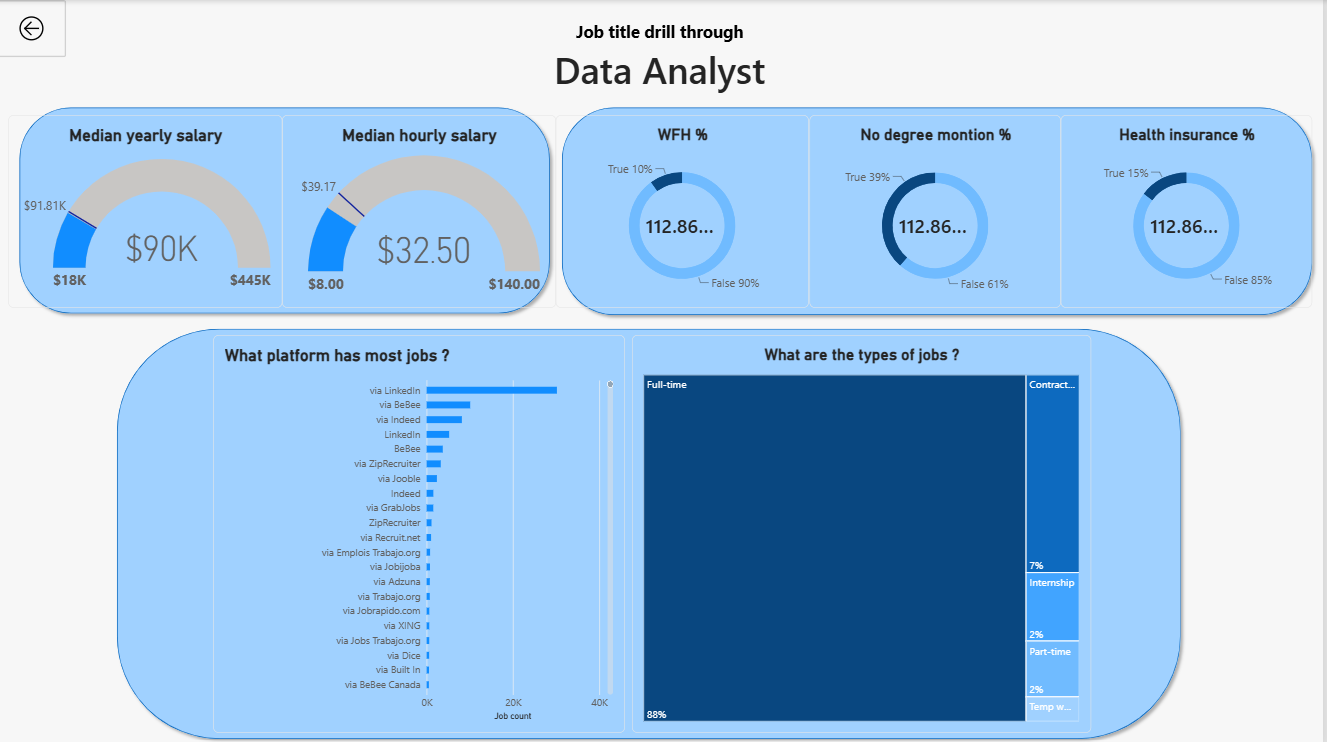

What the dashboard file says about the page in this screenshot:
{"tool":"powerbi","page":{"name":"Job title drill through","canvas":[1920,1080],"ordinal":1},"visuals":[{"type":"group","id":"g1","title":"Background","box":[24.1,147.3,1889.5,931.9],"z":0},{"type":"shape","box":[24.1,147.3,785.7,316.1],"z":0,"group":"g1"},{"type":"cardVisual","fields":{"Data":["Min(job_postings_flat.job_title_short)1"]},"box":[600.6,0,718,167.1],"z":1000},{"type":"shape","box":[164.8,467.4,1557.9,611.9],"z":1000,"group":"g1"},{"type":"actionButton","box":[0,0,100.2,82.9],"z":2000},{"type":"shape","box":[809.6,147.3,1104.1,318.3],"z":2000,"group":"g1"},{"type":"gauge","title":"Median yearly salary","fields":{"MaxValue":["Max(job_postings_flat.salary_year_avg)2"],"MinValue":["Min(job_postings_flat.salary_year_avg)1"],"TargetValue":["Avg(job_postings_flat.salary_year_avg)"],"Y":["Median(job_postings_flat.salary_year_avg)"]},"box":[15.4,165.7,397,279.4],"z":3000},{"type":"gauge","title":"Median hourly salary","fields":{"MaxValue":["Max(job_postings_flat.salary_hour_avg)2"],"MinValue":["Min(job_postings_flat.salary_hour_avg)1"],"TargetValue":["Avg(job_postings_flat.salary_hour_avg)3"],"Y":["Median(job_postings_flat.salary_hour_avg)"]},"box":[412.4,165.7,397,279.4],"z":4000},{"type":"donutChart","title":"WFH %","fields":{"Category":["job_postings_flat.job_work_from_home"],"Y":["CountNonNull(job_postings_flat.job_work_from_home)"]},"box":[809.3,165.7,366.1,279.4],"z":5000},{"type":"donutChart","title":"No degree montion %","fields":{"Category":["job_postings_flat.job_no_degree_mention"],"Y":["CountNonNull(job_postings_flat.job_work_from_home)"]},"box":[1175.4,165.7,364.2,279.4],"z":6000},{"type":"donutChart","title":"Health insurance %","fields":{"Category":["job_postings_flat.job_health_insurance"],"Y":["CountNonNull(job_postings_flat.job_work_from_home)"]},"box":[1539.6,165.7,364.2,279.4],"z":7000},{"type":"treemap","title":"What are the types of jobs ?","fields":{"Group":["job_postings_flat.job_schedule_type"],"Values":["CountNonNull(job_postings_flat.job_schedule_type)"]},"box":[918.9,485.4,664.8,576.2],"z":8000},{"type":"barChart","title":"What platform has most jobs ?","fields":{"Category":["job_postings_flat.job_via"],"Y":["CountNonNull(job_postings_flat.job_via)"]},"box":[313.8,485.4,596.1,575.7],"z":9000}]}

Visuals, with their boxes in screenshot pixels (x1, y1, x2, y2), scaled from the page's 1920x1080 canvas onto the 1327x742 screenshot:
"Background" group: 17 101 1323 741
shape: 17 101 560 318
cardVisual - Min(job_postings_flat.job_title_short)1: 415 0 911 115
shape: 114 321 1191 741
actionButton: 0 0 69 57
shape: 560 101 1323 320
"Median yearly salary" gauge: 11 114 285 306
"Median hourly salary" gauge: 285 114 559 306
"WFH %" donutChart: 559 114 812 306
"No degree montion %" donutChart: 812 114 1064 306
"Health insurance %" donutChart: 1064 114 1316 306
"What are the types of jobs ?" treemap: 635 333 1095 729
"What platform has most jobs ?" barChart: 217 333 629 729
